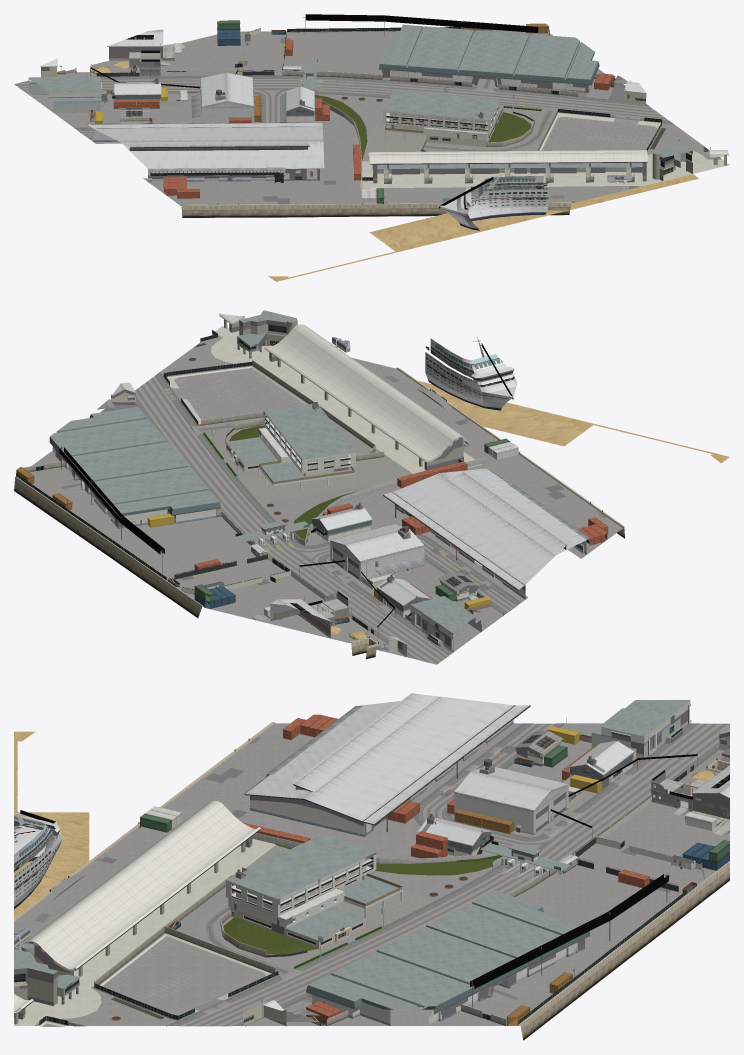
File: set.glb
3 renders of one model, top to bottom at view 1: azimuth 30°, elevation 25°; view 2: azimuth 150°, elevation 25°; view 3: azimuth 270°, elevation 25°, orthographic. The views are drawn at different scales.
Visible parts, largest first — view 1: mesh_d5_51.001, mesh_d5_5005.001, mesh_d5_5092.001, mesh_d5_1054.001, mesh_d5_5394.001, mesh_d5_4905.001, mesh_d5_3417.001, mesh_d5_4413.001, mesh_d5_1690.001, mesh_d5_3171.001, mesh_d5_5501.001, mesh_d5_4053.001 (+21 smaller); view 2: mesh_d5_51.001, mesh_d5_5092.001, mesh_d5_5005.001, mesh_d5_1054.001, mesh_d5_4413.001, mesh_d5_5394.001, mesh_d5_3417.001, mesh_d5_4905.001, mesh_d5_3171.001, mesh_d5_1690.001, mesh_d5_3174.001, mesh_d5_5501.001 (+18 smaller); view 3: mesh_d5_51.001, mesh_d5_5092.001, mesh_d5_5005.001, mesh_d5_1054.001, mesh_d5_4413.001, mesh_d5_1690.001, mesh_d5_5394.001, mesh_d5_3417.001, mesh_d5_3171.001, mesh_d5_5580.001, mesh_d5_4053.001, mesh_d5_4905.001 (+31 smaller).
Part boxes in pixels (x1,y1,x2,y2): mesh_d5_51.001: [29, 30, 721, 205]; mesh_d5_5005.001: [28, 24, 692, 202]; mesh_d5_5092.001: [40, 29, 646, 169]; mesh_d5_1054.001: [14, 79, 668, 136]; mesh_d5_5394.001: [360, 112, 729, 188]; mesh_d5_4905.001: [95, 61, 698, 281]; mesh_d5_3417.001: [75, 31, 574, 217]; mesh_d5_4413.001: [368, 150, 729, 163]; mesh_d5_1690.001: [28, 60, 594, 181]; mesh_d5_3171.001: [25, 75, 708, 151]; mesh_d5_5501.001: [438, 174, 548, 224]; mesh_d5_4053.001: [161, 28, 720, 184]; mesh_d5_51.001: [30, 335, 622, 656]; mesh_d5_5092.001: [97, 382, 586, 645]; mesh_d5_5005.001: [50, 310, 589, 650]; mesh_d5_1054.001: [135, 376, 516, 664]; mesh_d5_4413.001: [219, 313, 467, 462]; mesh_d5_5394.001: [167, 326, 481, 473]; mesh_d5_3417.001: [14, 367, 624, 659]; mesh_d5_4905.001: [330, 381, 729, 636]; mesh_d5_3171.001: [134, 342, 521, 660]; mesh_d5_1690.001: [55, 412, 589, 649]; mesh_d5_3174.001: [239, 457, 411, 503]; mesh_d5_5501.001: [425, 337, 516, 402]; mesh_d5_51.001: [14, 723, 729, 1026]; mesh_d5_5092.001: [242, 693, 729, 1015]; mesh_d5_5005.001: [14, 700, 690, 1021]; mesh_d5_1054.001: [179, 723, 729, 1026]; mesh_d5_4413.001: [14, 801, 260, 1012]; mesh_d5_1690.001: [226, 700, 690, 1025]; mesh_d5_5394.001: [14, 839, 275, 1026]; mesh_d5_3417.001: [14, 722, 729, 1040]; mesh_d5_3171.001: [68, 723, 719, 1026]; mesh_d5_5580.001: [242, 714, 649, 1020]; mesh_d5_4053.001: [39, 777, 704, 1025]; mesh_d5_4905.001: [14, 731, 712, 918].
Bounding box in the file's own units: 300 × 39.69 × 300.
Materials: 147 (147 with a texture image).
